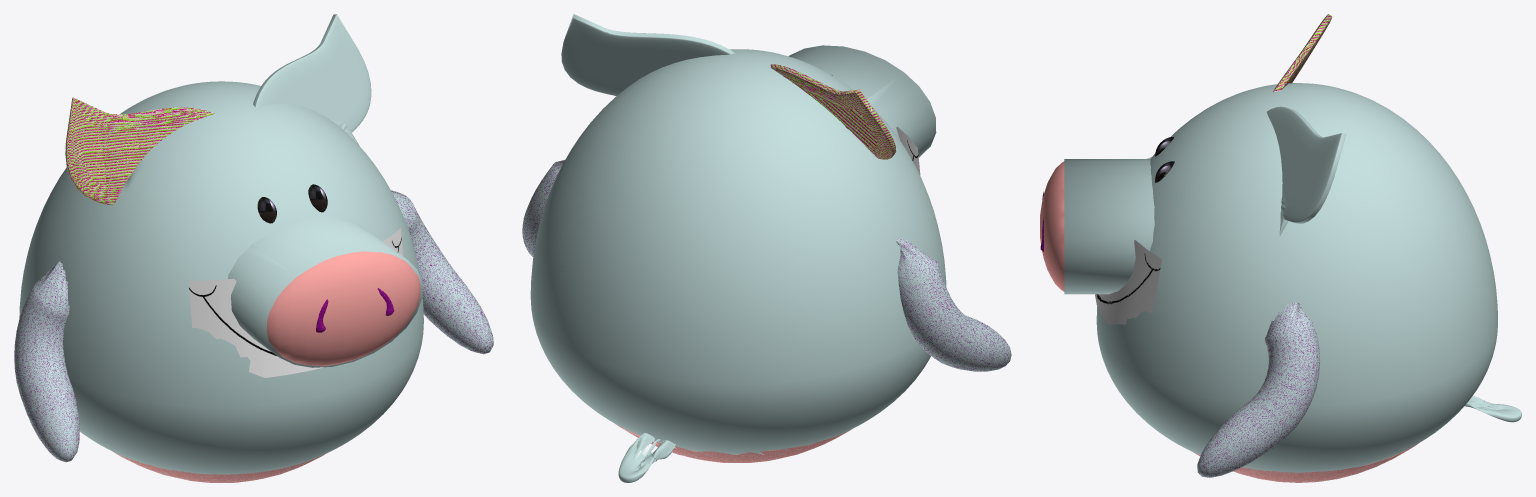
The model's file is bluepig.dae.
3 views of the same model, side by side, from view 1: azimuth 30°, elevation 25°; view 2: azimuth 150°, elevation 25°; view 3: azimuth 270°, elevation 25° (orthographic). The views are drawn at different scales.
Parts seen in each view (by area): view 1: SketchUp (×10), group_0; view 2: SketchUp (×8), group_0 (×2); view 3: SketchUp (×9), group_0.
Part boxes in pixels (bbox=[...]): SketchUp (×10): bbox=[14, 81, 493, 482]; group_0: bbox=[253, 14, 371, 145]; SketchUp (×8): bbox=[522, 45, 1011, 482]; group_0 (×2): bbox=[561, 14, 734, 95]; SketchUp (×9): bbox=[1040, 14, 1521, 482]; group_0: bbox=[1266, 106, 1346, 235].
Size of the model in its own units: 34.9 by 32.78 by 29.86.
Materials: 12 (5 with a texture image).
